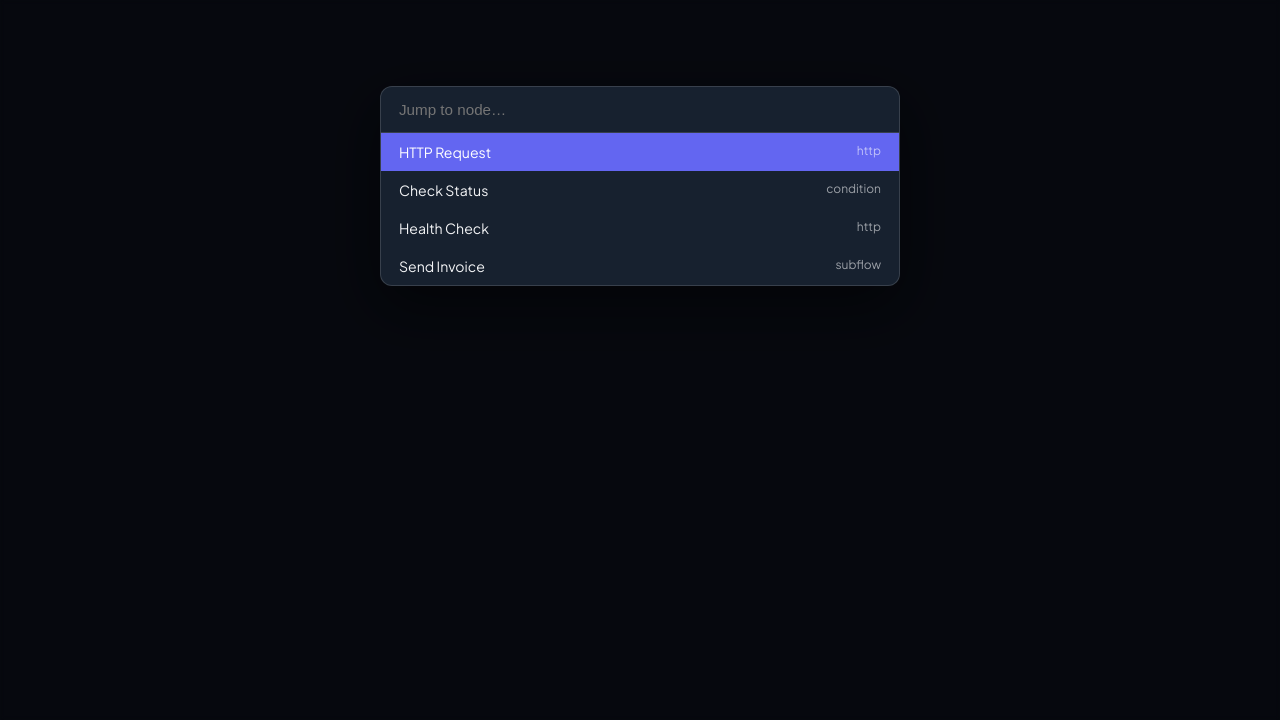
NodeSearchPalette › filters the list as the user types
Type "check" into the field named "Search nodes by name" at (640, 110), box [381,87,899,133]
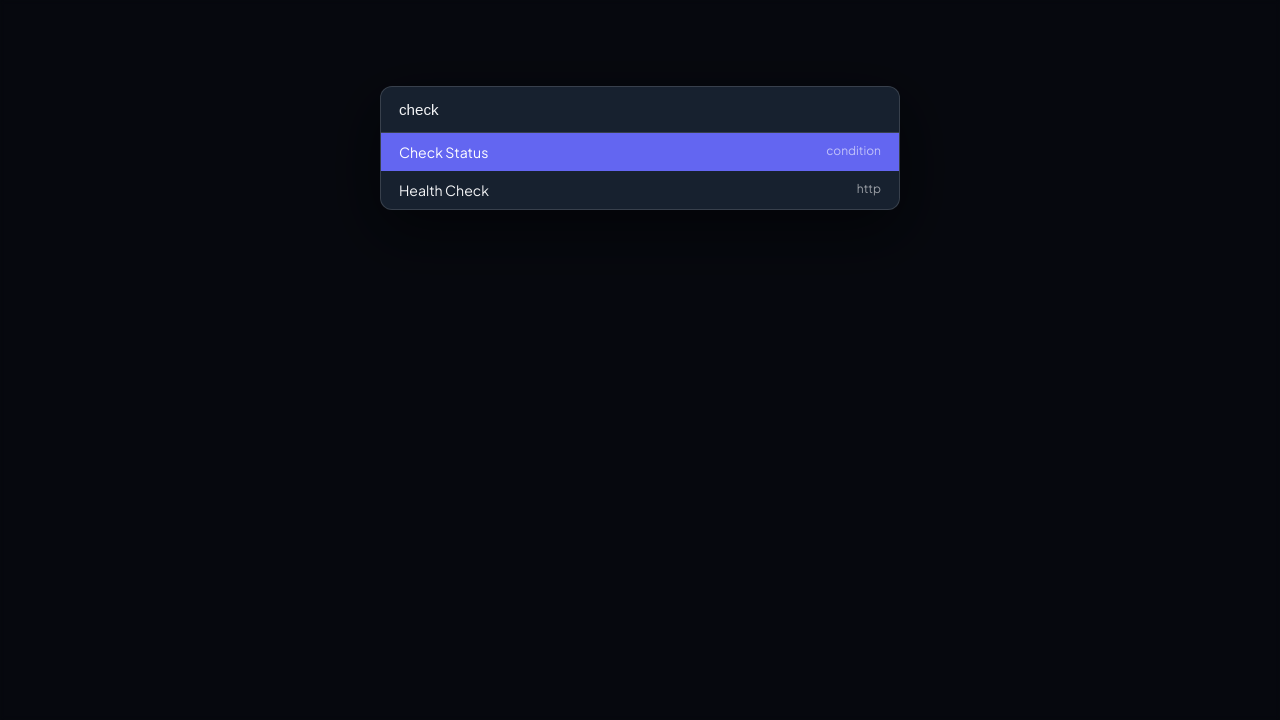
Expected: the text "Check Status" is shown, [399,143,488,161]
Now the button "HTTP Request" is gone
